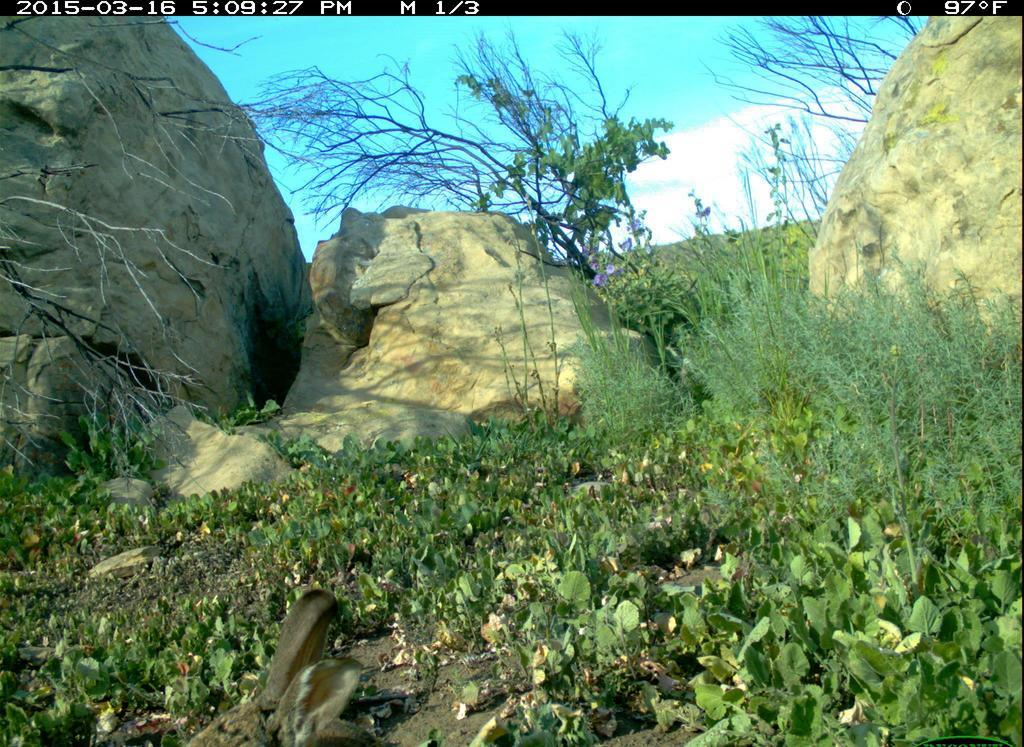rabbit: (175, 577, 402, 747)
